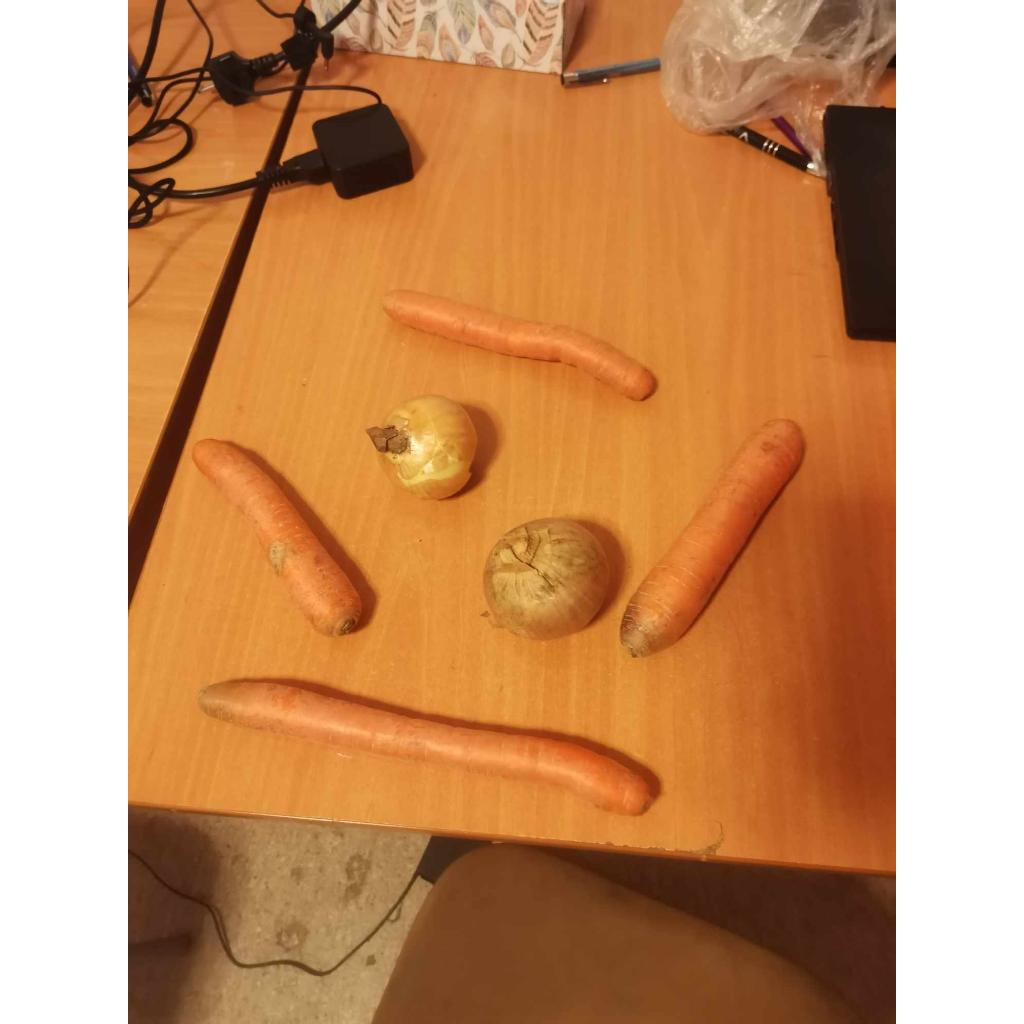carrot: (198, 682, 652, 815), (620, 420, 804, 656), (192, 440, 360, 636), (382, 290, 656, 400)
